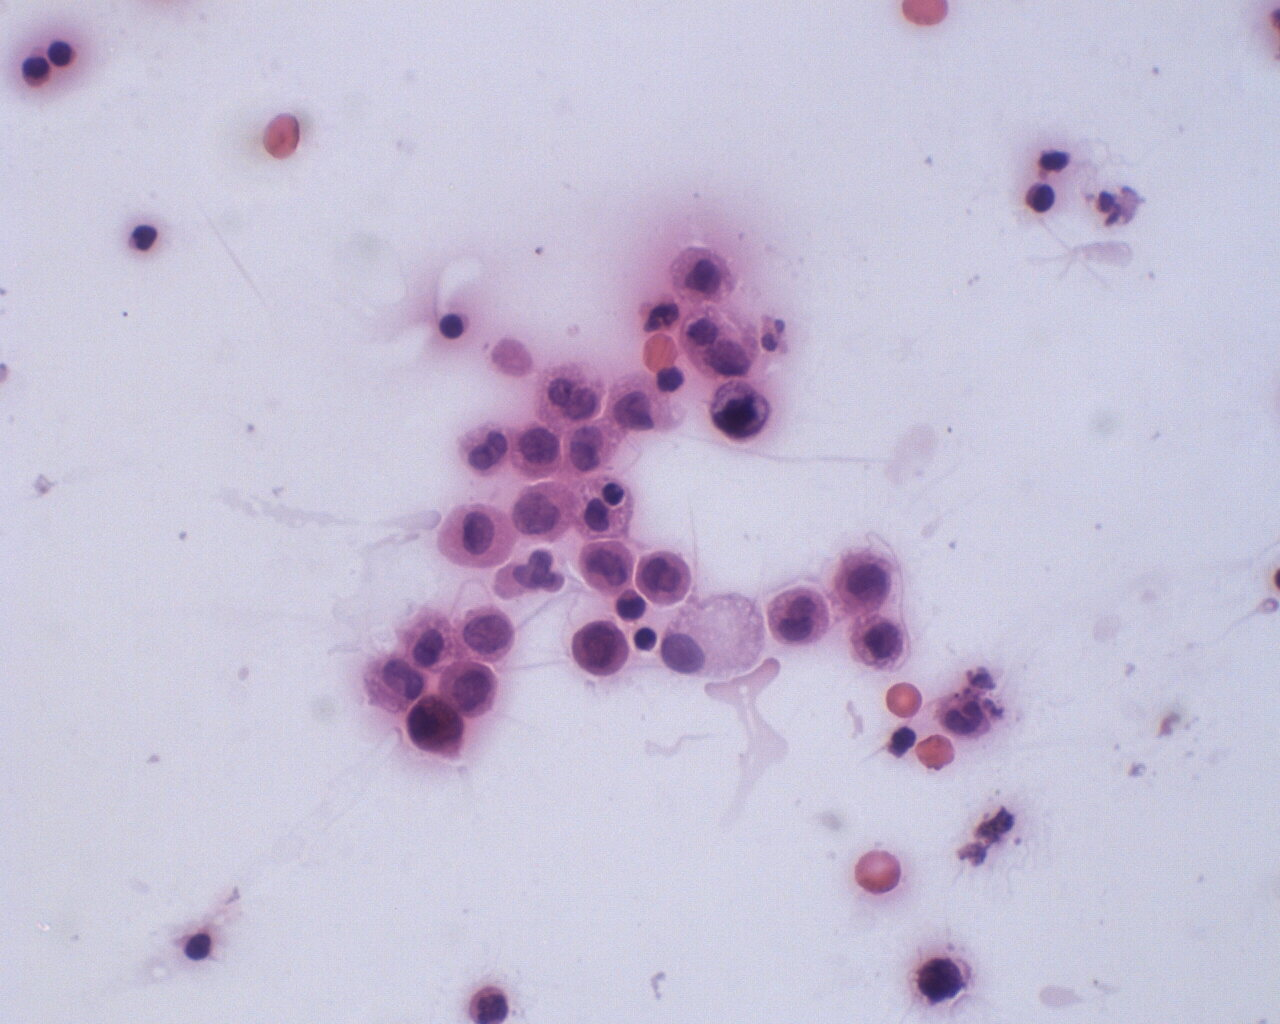ab: (835, 546, 898, 613), (568, 618, 631, 681), (457, 598, 518, 662), (439, 659, 501, 722), (708, 381, 772, 442), (404, 696, 466, 757), (634, 548, 695, 608), (577, 537, 639, 594), (852, 615, 910, 675), (508, 425, 561, 479)
histo: (658, 592, 764, 685)
lymph: (1024, 180, 1057, 215), (632, 624, 657, 659), (45, 38, 75, 67), (437, 312, 466, 341)
meso: (435, 497, 518, 574)
